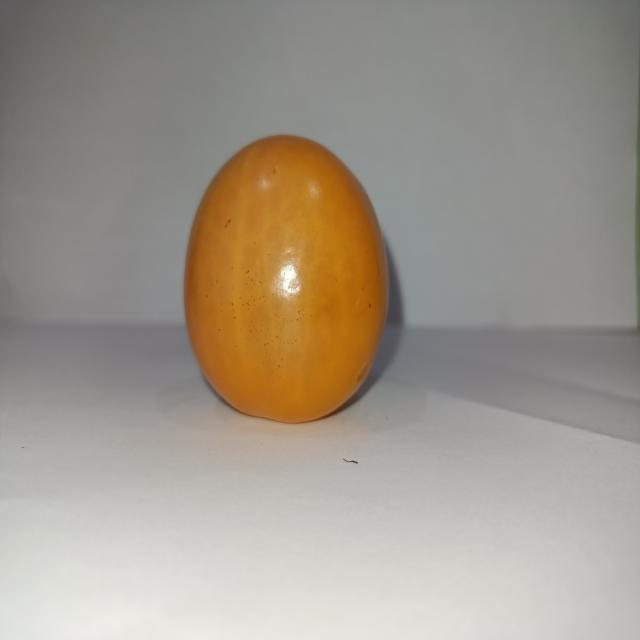Red: (182, 132, 390, 424)
